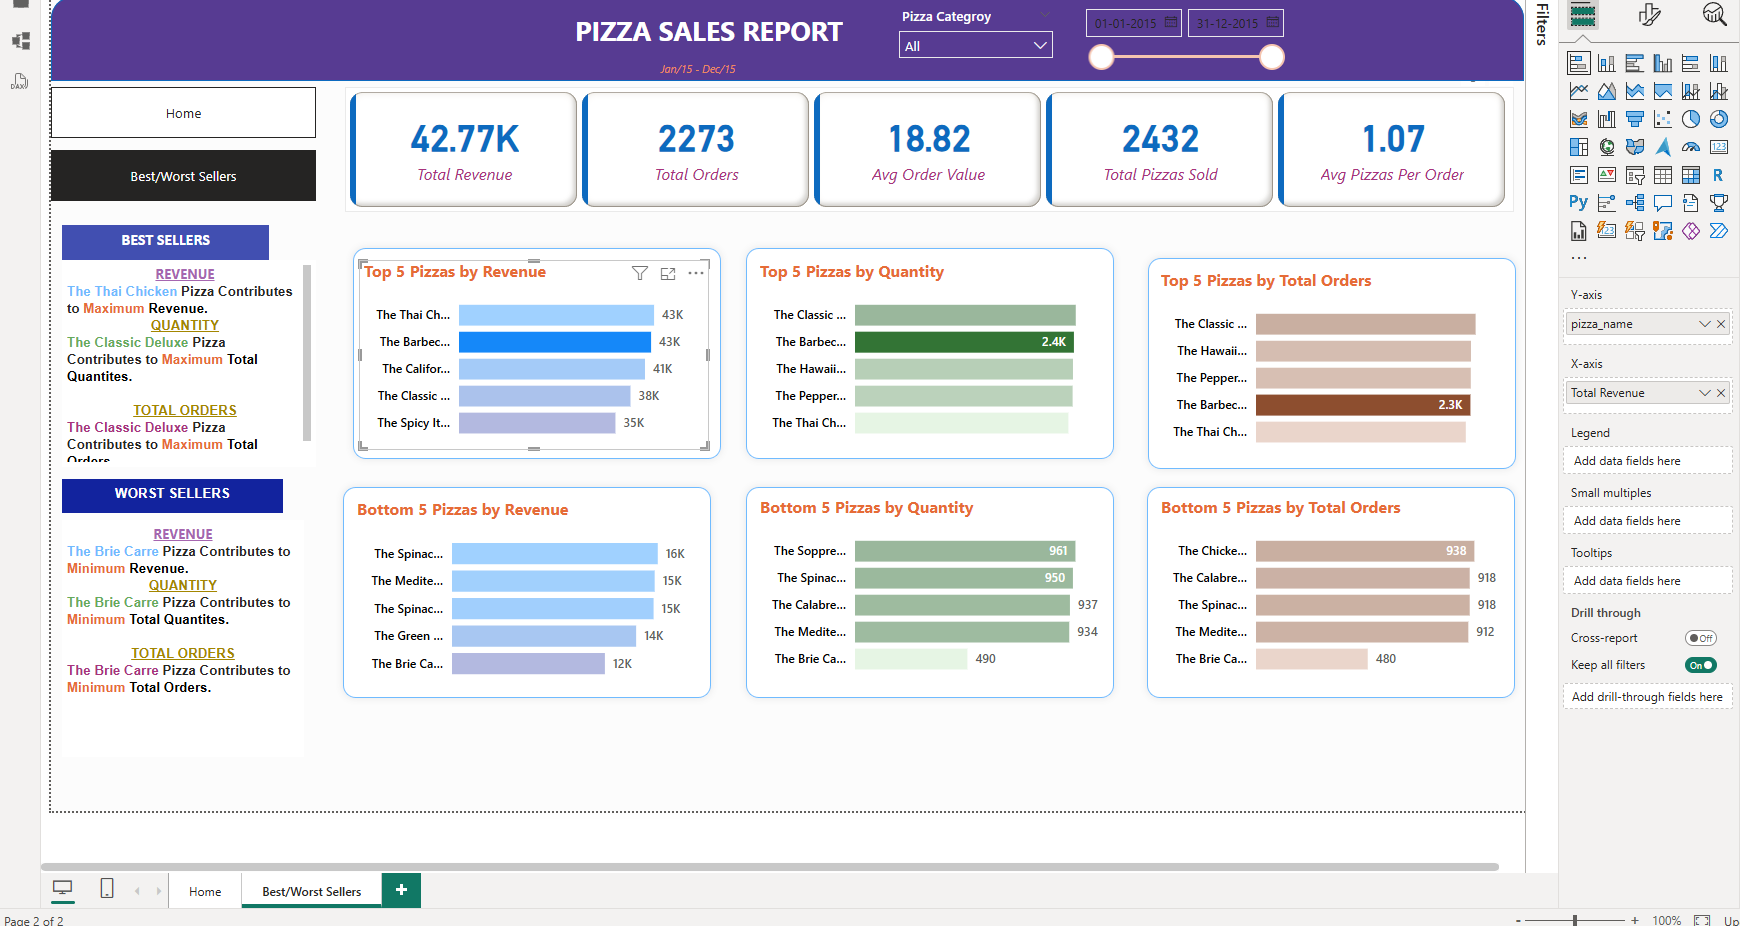

What the dashboard file says about the page in this screenshot:
{"tool":"powerbi","page":{"name":"Best/Worst Sellers","canvas":[1500,820],"ordinal":1},"visuals":[{"type":"cardVisual","fields":{"Data":["pizza_sales.Total Revenue","pizza_sales.Total Orders","pizza_sales.Avg Order Value","pizza_sales.Total Pizzas Sold","pizza_sales.Avg Pizzas Per Order"]},"box":[294,96,1169,125],"z":0},{"type":"shape","box":[0,6,1473,84],"z":1000},{"type":"textbox","box":[497,16,322,49],"z":2000},{"type":"textbox","box":[576,63,142,27],"z":3000},{"type":"shape","box":[294,249,384,227],"z":4000},{"type":"textbox","box":[11,234,207,35],"z":5000},{"type":"textbox","box":[11,269,254,207],"z":6000},{"type":"textbox","box":[11,488,221,34],"z":7000},{"type":"textbox","box":[11,529,242,237],"z":8000},{"type":"slicer","fields":{"Values":["pizza_sales.pizza_category"]},"box":[838,11,174,66],"z":9000},{"type":"slicer","fields":{"Values":["pizza_sales.order_date"]},"box":[1022,8,220,82],"z":10000},{"type":"shape","box":[284,488,384,227],"z":11000},{"type":"shape","box":[687,488,384,227],"z":12000},{"type":"shape","box":[1088,488,384,227],"z":13000},{"type":"shape","box":[687,249,384,227],"z":14000},{"type":"shape","box":[1089,259,384,227],"z":15000},{"type":"barChart","title":"Top 5 Pizzas by Revenue ","fields":{"Category":["pizza_sales.pizza_name"],"Y":["pizza_sales.Total Revenue"]},"box":[308,269,350,190],"z":16000},{"type":"barChart","title":"Bottom 5 Pizzas by Revenue ","fields":{"Category":["pizza_sales.pizza_name"],"Y":["pizza_sales.Total Revenue"]},"box":[301,507,350,193],"z":17000},{"type":"barChart","title":"Top 5 Pizzas by Quantity","fields":{"Category":["pizza_sales.pizza_name"],"Y":["pizza_sales.Total Pizzas Sold"]},"box":[704,269,350,190],"z":17001},{"type":"barChart","title":"Bottom 5 Pizzas by Quantity","fields":{"Category":["pizza_sales.pizza_name"],"Y":["pizza_sales.Total Pizzas Sold"]},"box":[704,505,350,190],"z":17002},{"type":"barChart","title":"Top 5 Pizzas by Total Orders","fields":{"Category":["pizza_sales.pizza_name"],"Y":["pizza_sales.Total Orders"]},"box":[1105,278,350,190],"z":17003},{"type":"barChart","title":"Bottom 5 Pizzas by Total Orders","fields":{"Category":["pizza_sales.pizza_name"],"Y":["pizza_sales.Total Orders"]},"box":[1105,505,350,190],"z":17004},{"type":"pageNavigator","box":[0,96,265,51],"z":17005},{"type":"pageNavigator","box":[0,159,265,51],"z":17006}]}

Visuals, with their boxes on the page's 1500x820 design canvas (x1, y1, x2, y2). These are canvas units, not pixel positions in the 1740x926 screenshot, which may show the page scaled, cropped or inside an application window:
cardVisual - pizza_sales.Total Revenue x pizza_sales.Total Orders: 294 96 1463 221
shape: 0 6 1473 90
textbox: 497 16 819 65
textbox: 576 63 718 90
shape: 294 249 678 476
textbox: 11 234 218 269
textbox: 11 269 265 476
textbox: 11 488 232 522
textbox: 11 529 253 766
slicer - pizza_sales.pizza_category: 838 11 1012 77
slicer - pizza_sales.order_date: 1022 8 1242 90
shape: 284 488 668 715
shape: 687 488 1071 715
shape: 1088 488 1472 715
shape: 687 249 1071 476
shape: 1089 259 1473 486
"Top 5 Pizzas by Revenue " barChart: 308 269 658 459
"Bottom 5 Pizzas by Revenue " barChart: 301 507 651 700
"Top 5 Pizzas by Quantity" barChart: 704 269 1054 459
"Bottom 5 Pizzas by Quantity" barChart: 704 505 1054 695
"Top 5 Pizzas by Total Orders" barChart: 1105 278 1455 468
"Bottom 5 Pizzas by Total Orders" barChart: 1105 505 1455 695
pageNavigator: 0 96 265 147
pageNavigator: 0 159 265 210
